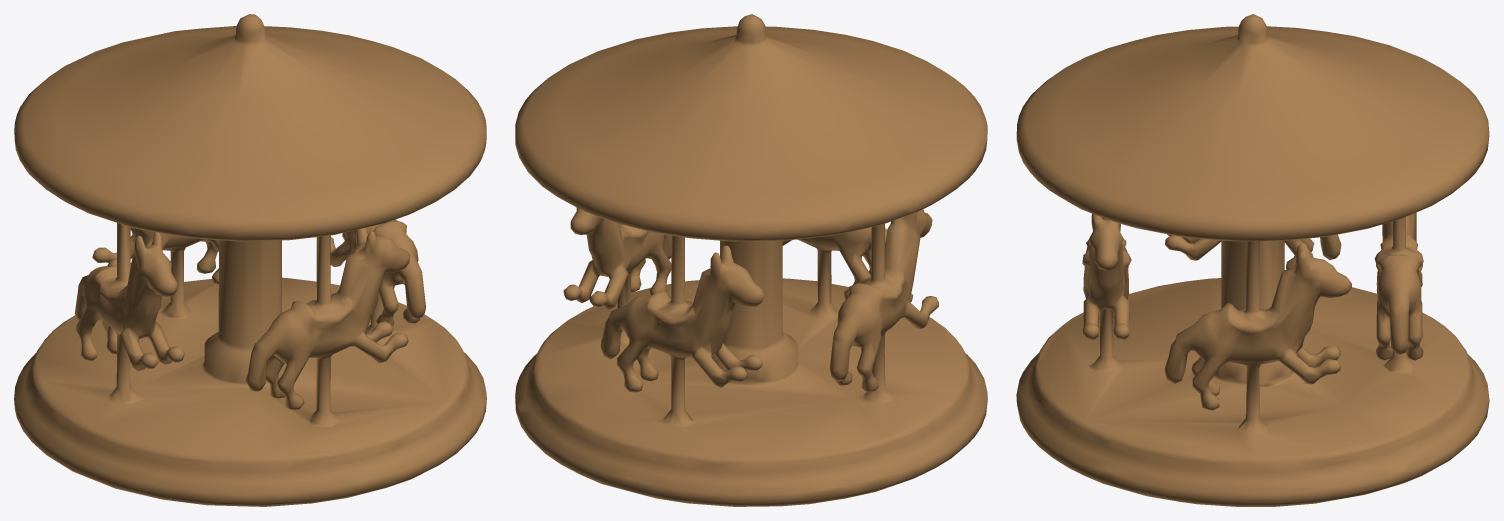
Rendered from NEW_RECOVERY_104_LOD0.fbx.
3 views of the same model, side by side, from view 1: azimuth 30°, elevation 25°; view 2: azimuth 150°, elevation 25°; view 3: azimuth 270°, elevation 25° (orthographic).
Parts seen in each view (by area): view 1: Carousel_Static_Sculpture; view 2: Carousel_Static_Sculpture; view 3: Carousel_Static_Sculpture.
Part boxes in pixels (bbox=[...]): Carousel_Static_Sculpture: bbox=[14, 14, 486, 506]; Carousel_Static_Sculpture: bbox=[515, 14, 987, 506]; Carousel_Static_Sculpture: bbox=[1016, 14, 1489, 506].
Size of the model in its own units: 436 by 436 by 401.
